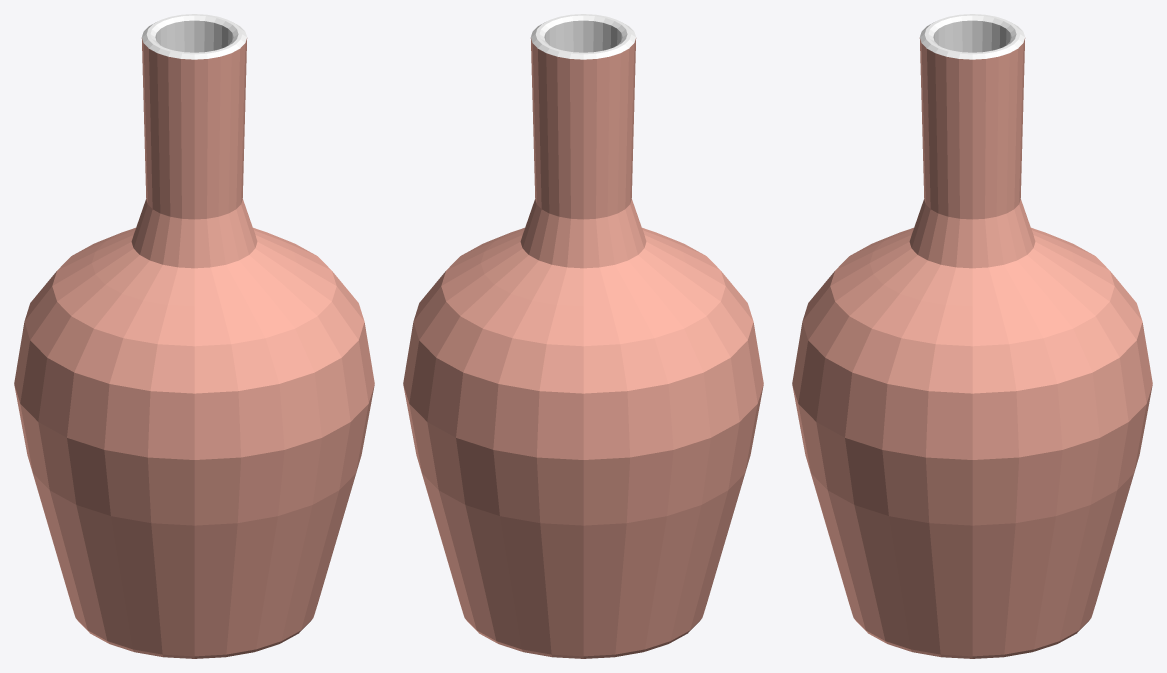
The model's file is 504 Vase.obj.
3 renders of one model, left to right at view 1: azimuth 30°, elevation 25°; view 2: azimuth 150°, elevation 25°; view 3: azimuth 270°, elevation 25°, orthographic.
Parts seen in each view (by area): view 1: Vase; view 2: Vase; view 3: Vase.
Boxes of the visible parts, x1,y1,x2,y2 form: Vase: (14,14,374,658); Vase: (403,14,763,658); Vase: (792,14,1152,658).
Size of the model in its own units: 45.42 by 79.95 by 45.42.
Materials: 1 (1 with a texture image).
